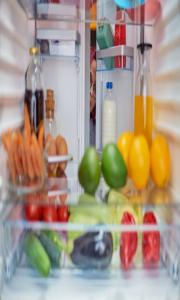Aguacate: (77, 140, 102, 198), (102, 142, 128, 189)
Huevos: (47, 139, 57, 173), (58, 138, 68, 170)
Leche: (102, 78, 117, 144)
Limón: (128, 130, 152, 194), (148, 129, 172, 189)
Pimiento: (119, 210, 138, 271), (142, 210, 160, 266)
